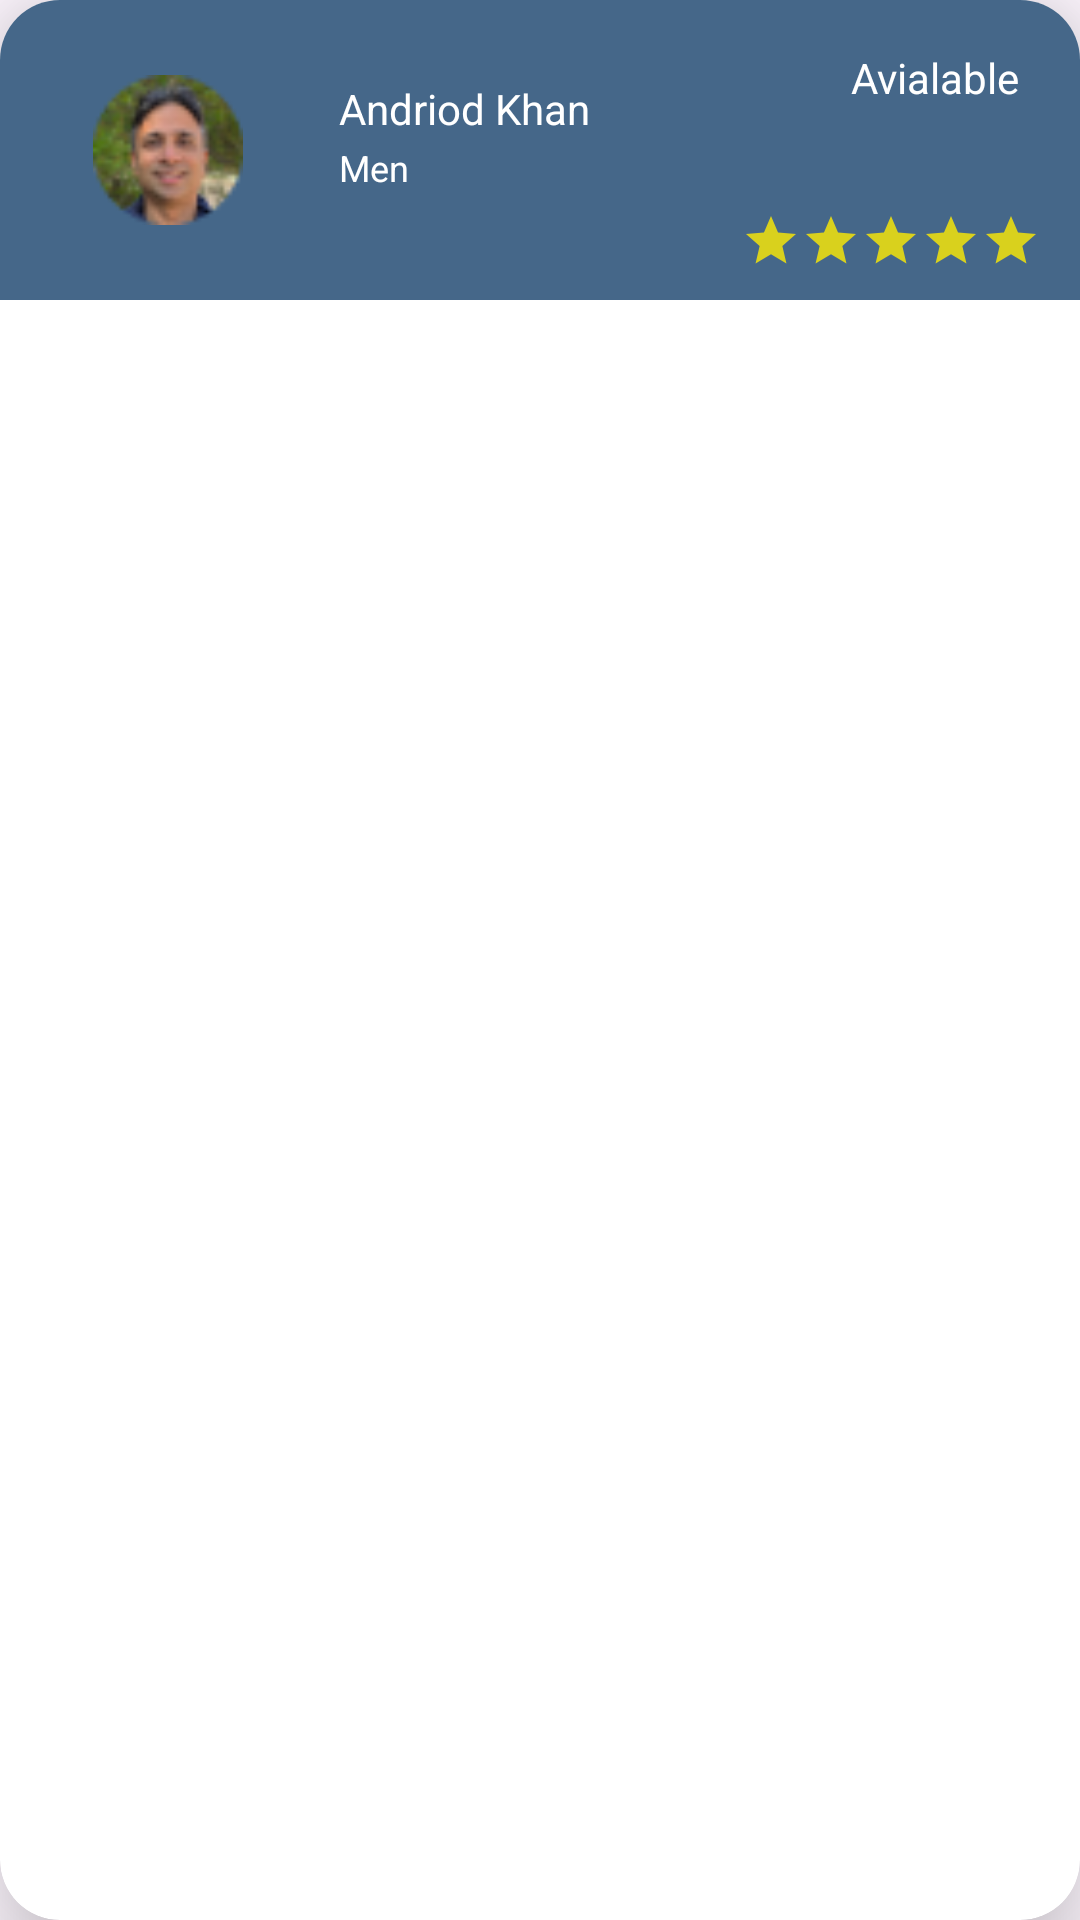

Where icons sit on this 1080w x 1920h app screen, as (x1=x1, y1=y1, x2=x2, y2=y2):
profile: (x1=93, y1=75, x2=243, y2=225)
star: (x1=746, y1=216, x2=796, y2=263), (x1=806, y1=216, x2=856, y2=263), (x1=866, y1=216, x2=916, y2=263), (x1=926, y1=216, x2=976, y2=263), (x1=986, y1=216, x2=1036, y2=263)
